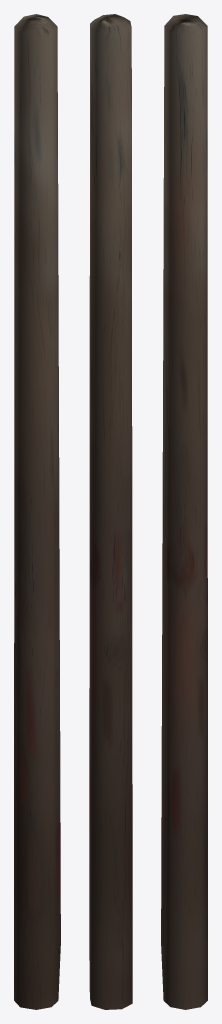
Rendered from md_utilitypole_v6.fbx.
3 views of the same model, side by side, from view 1: azimuth 90°, elevation 25°; view 2: azimuth 210°, elevation 25°; view 3: azimuth 270°, elevation 25° (orthographic).
Parts seen in each view (by area): view 1: PoleSubdivided; view 2: PoleSubdivided; view 3: PoleSubdivided.
Part boxes in pixels (x1,y1,x2,y2): PoleSubdivided: (14,14,60,1009); PoleSubdivided: (89,14,132,1009); PoleSubdivided: (161,14,207,1009).
Size of the model in its own units: 7.64 by 185 by 8.01.
1 material, 1 textured.
